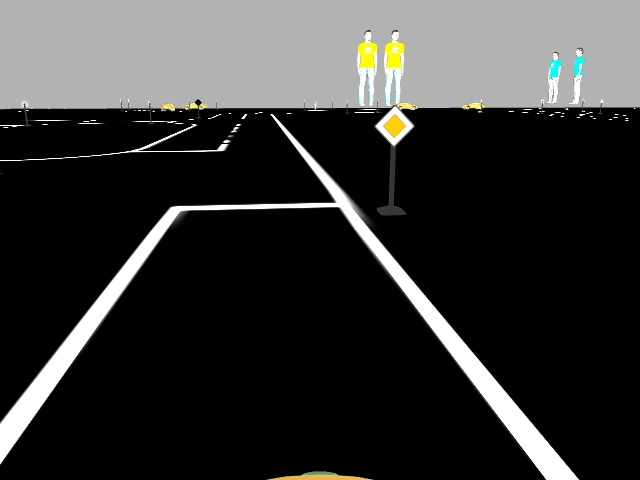Priority: (378, 104, 412, 144)
